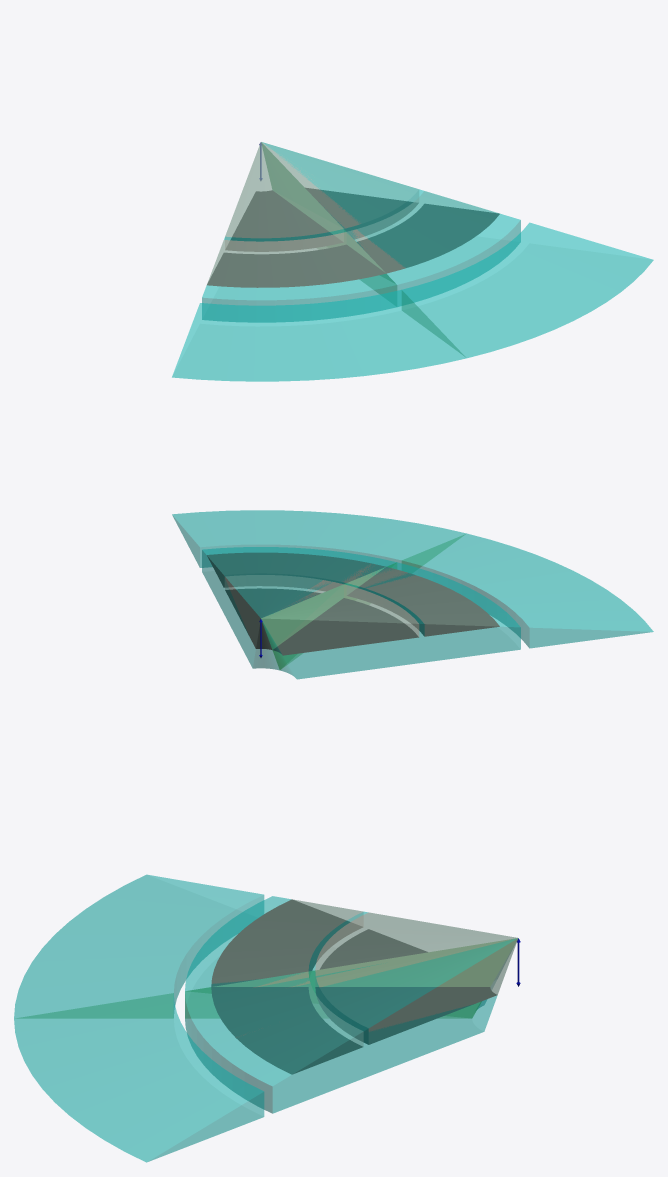
Rendered from area_09.glb.
3 views of the same model, one above another, from view 1: azimuth 30°, elevation 25°; view 2: azimuth 150°, elevation 25°; view 3: azimuth 270°, elevation 25° (orthographic). The views are drawn at different scales.
Parts seen in each view (by area): view 1: defaultobject.001, defaultobject; view 2: defaultobject.001, defaultobject; view 3: defaultobject.001, defaultobject.
Boxes of the visible parts, bbox=[...] form: defaultobject.001: bbox=[172, 142, 653, 381]; defaultobject: bbox=[207, 142, 499, 287]; defaultobject.001: bbox=[172, 510, 653, 679]; defaultobject: bbox=[207, 552, 499, 655]; defaultobject.001: bbox=[14, 874, 518, 1162]; defaultobject: bbox=[211, 899, 517, 1074].
Size of the model in its own units: 50.33 by 10.57 by 47.25.
